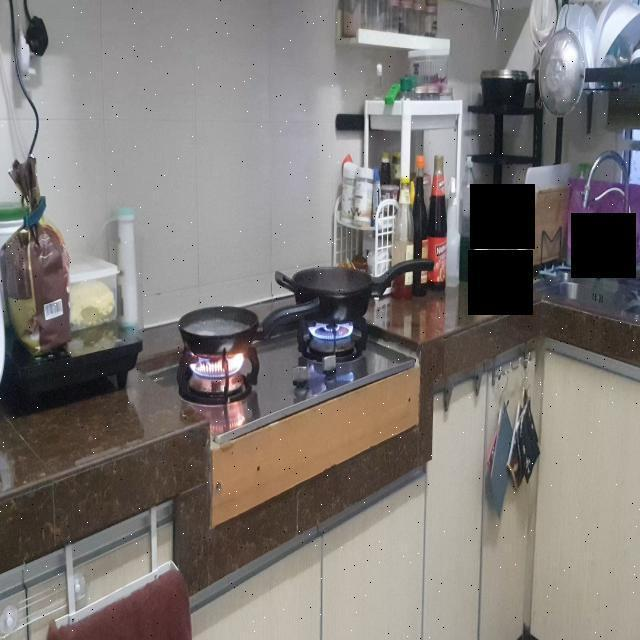Flame: (180, 357, 255, 382), (311, 320, 359, 341)
Pan: (285, 264, 403, 329), (174, 305, 298, 362)
